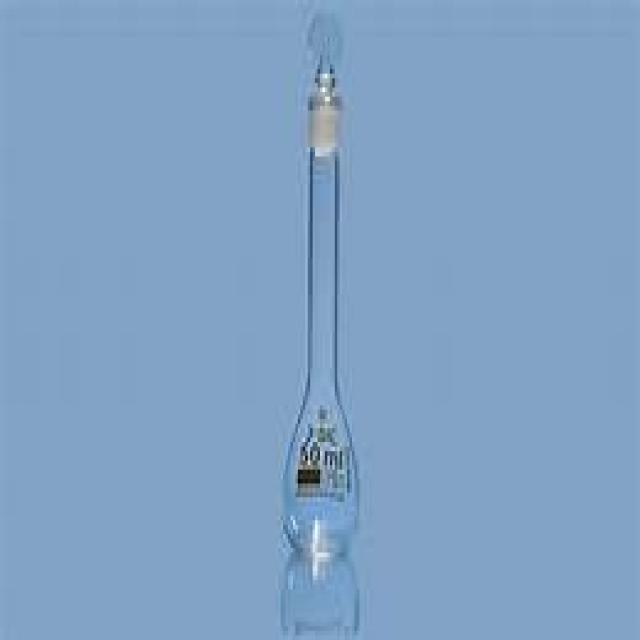Volumetric flask: (276, 9, 369, 563)
